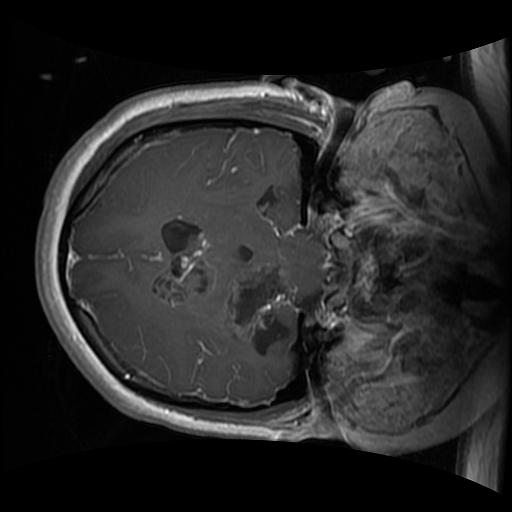glioma: (146, 212, 297, 361)
